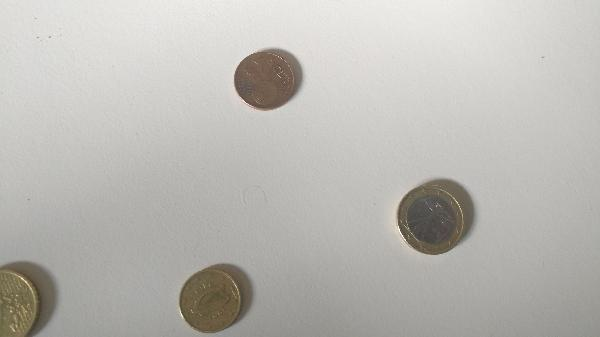Fifty Cent: (1, 261, 49, 337)
Five Cent: (233, 50, 299, 113)
One Euro: (397, 186, 465, 257)
Ten Cent: (174, 267, 245, 334)
